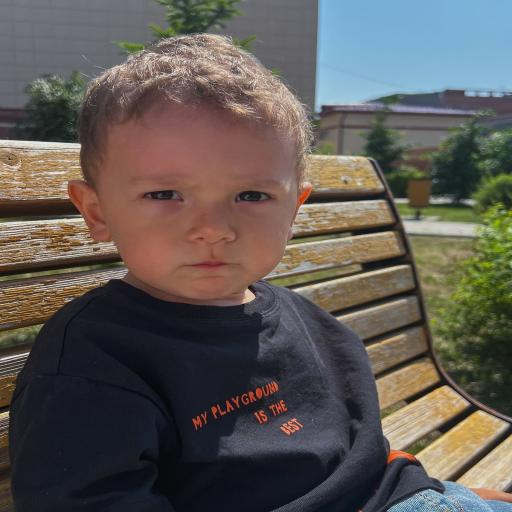bus_stop: (10, 34, 511, 511)
trash_bin: (265, 156, 511, 490)
